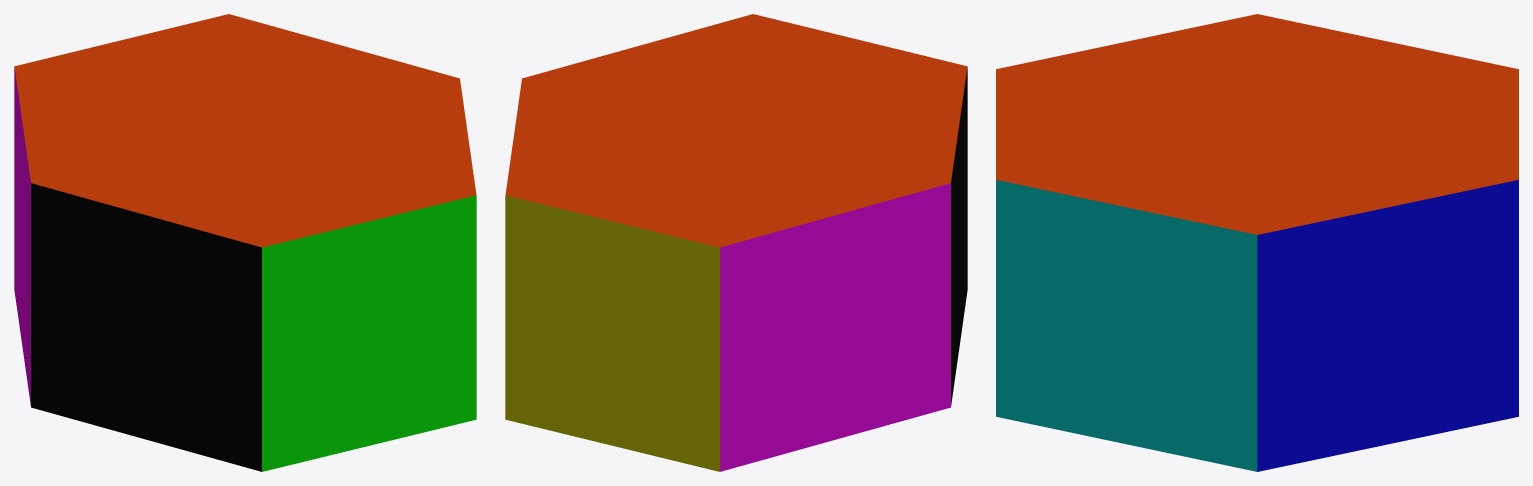
The model's file is hex_1.obj.
3 views of the same model, side by side, from view 1: azimuth 30°, elevation 25°; view 2: azimuth 150°, elevation 25°; view 3: azimuth 270°, elevation 25° (orthographic). The views are drawn at different scales.
Visible parts, largest first — view 1: Cube_Cube.001; view 2: Cube_Cube.001; view 3: Cube_Cube.001.
Boxes of the visible parts, <box> form: Cube_Cube.001: <box>14,14,476,471</box>; Cube_Cube.001: <box>505,14,967,471</box>; Cube_Cube.001: <box>996,14,1518,471</box>.
Bounding box in the file's own units: 2 × 1 × 2.
